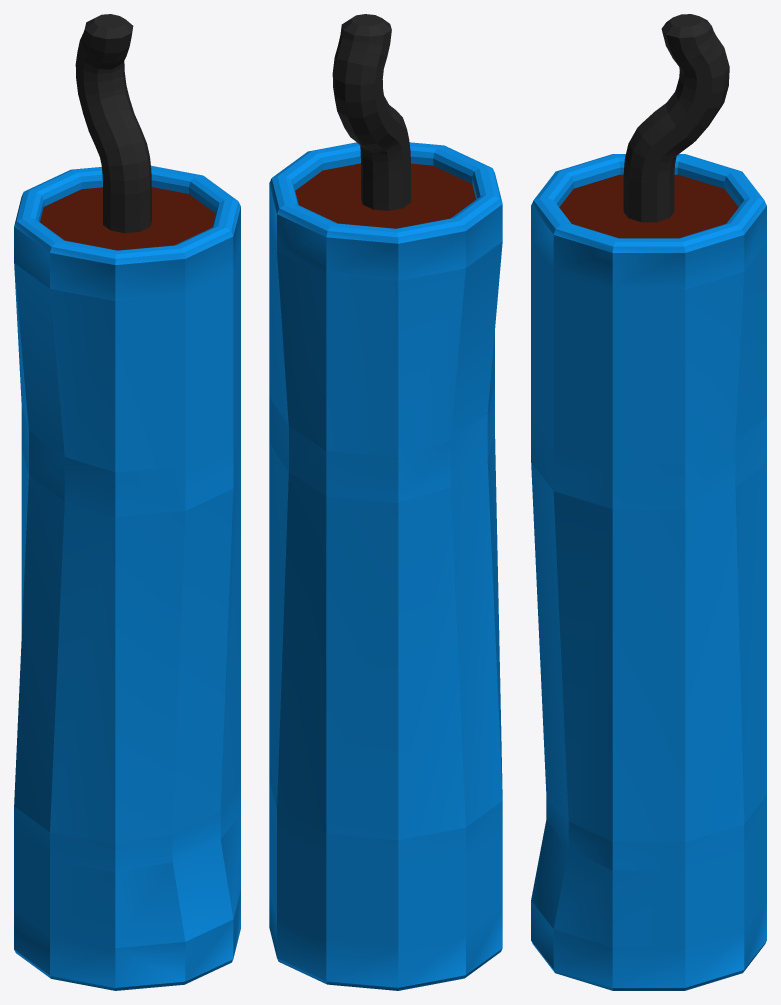
The model's file is item_firecracker.fbx.
3 views of the same model, side by side, from view 1: azimuth 30°, elevation 25°; view 2: azimuth 150°, elevation 25°; view 3: azimuth 270°, elevation 25° (orthographic). The views are drawn at different scales.
Parts seen in each view (by area): view 1: firecracker; view 2: firecracker; view 3: firecracker.
Part boxes in pixels (bbox=[...]): firecracker: bbox=[14, 14, 240, 990]; firecracker: bbox=[269, 14, 502, 990]; firecracker: bbox=[531, 14, 766, 990].
Size of the model in its own units: 12.52 by 57.07 by 13.17.
